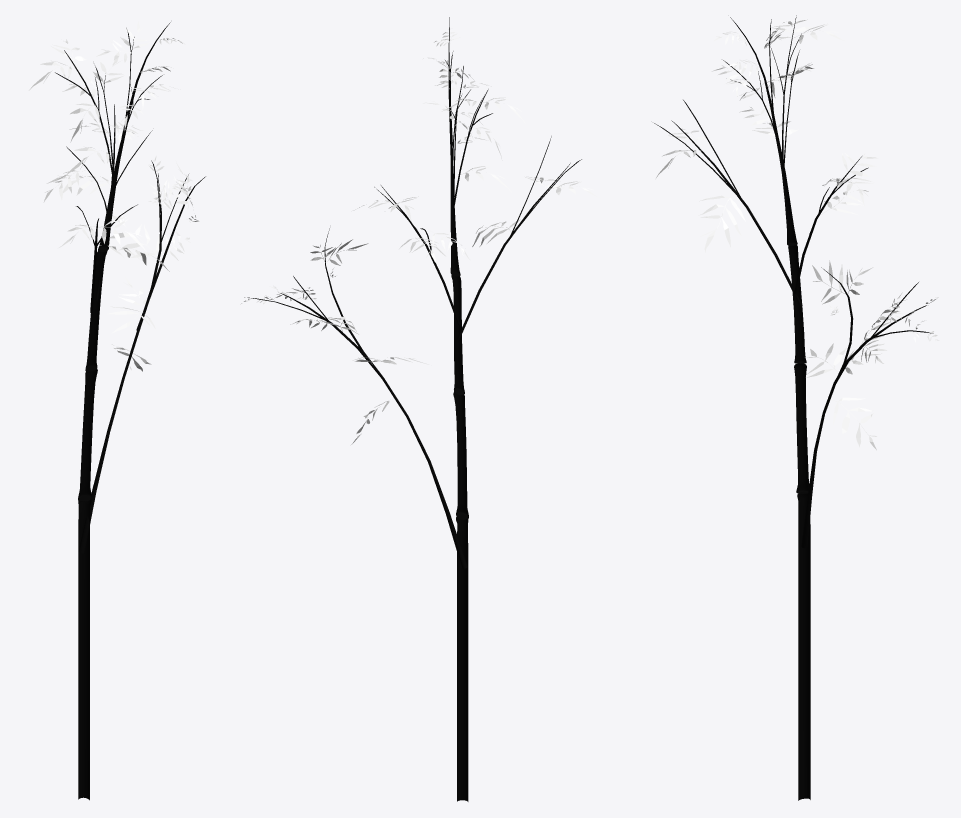
File: Tree_back.glb
The picture shows the model from 3 angles, left to right: view 1: azimuth 30°, elevation 25°; view 2: azimuth 150°, elevation 25°; view 3: azimuth 270°, elevation 25°; orthographic projection. The views are drawn at different scales.
Parts seen in each view (by area): view 1: Circle.006_0; view 2: Circle.006_0; view 3: Circle.006_0.
Boxes of the visible parts, left/top/right/bottom form: Circle.006_0: left=29, top=21, right=205, bottom=800; Circle.006_0: left=241, top=17, right=600, bottom=801; Circle.006_0: left=654, top=15, right=939, bottom=800.
Bounding box in the file's own units: 0.5872 × 1.62 × 0.5482.
2 materials, 1 textured.
